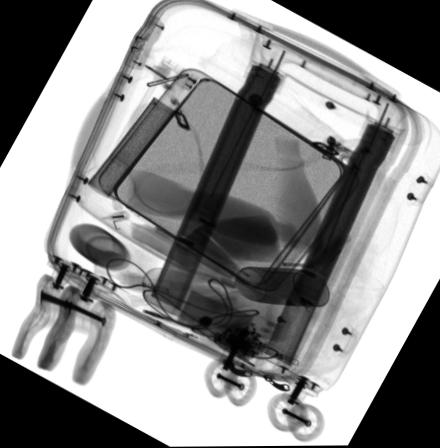Powerbank: (173, 286, 280, 361)
